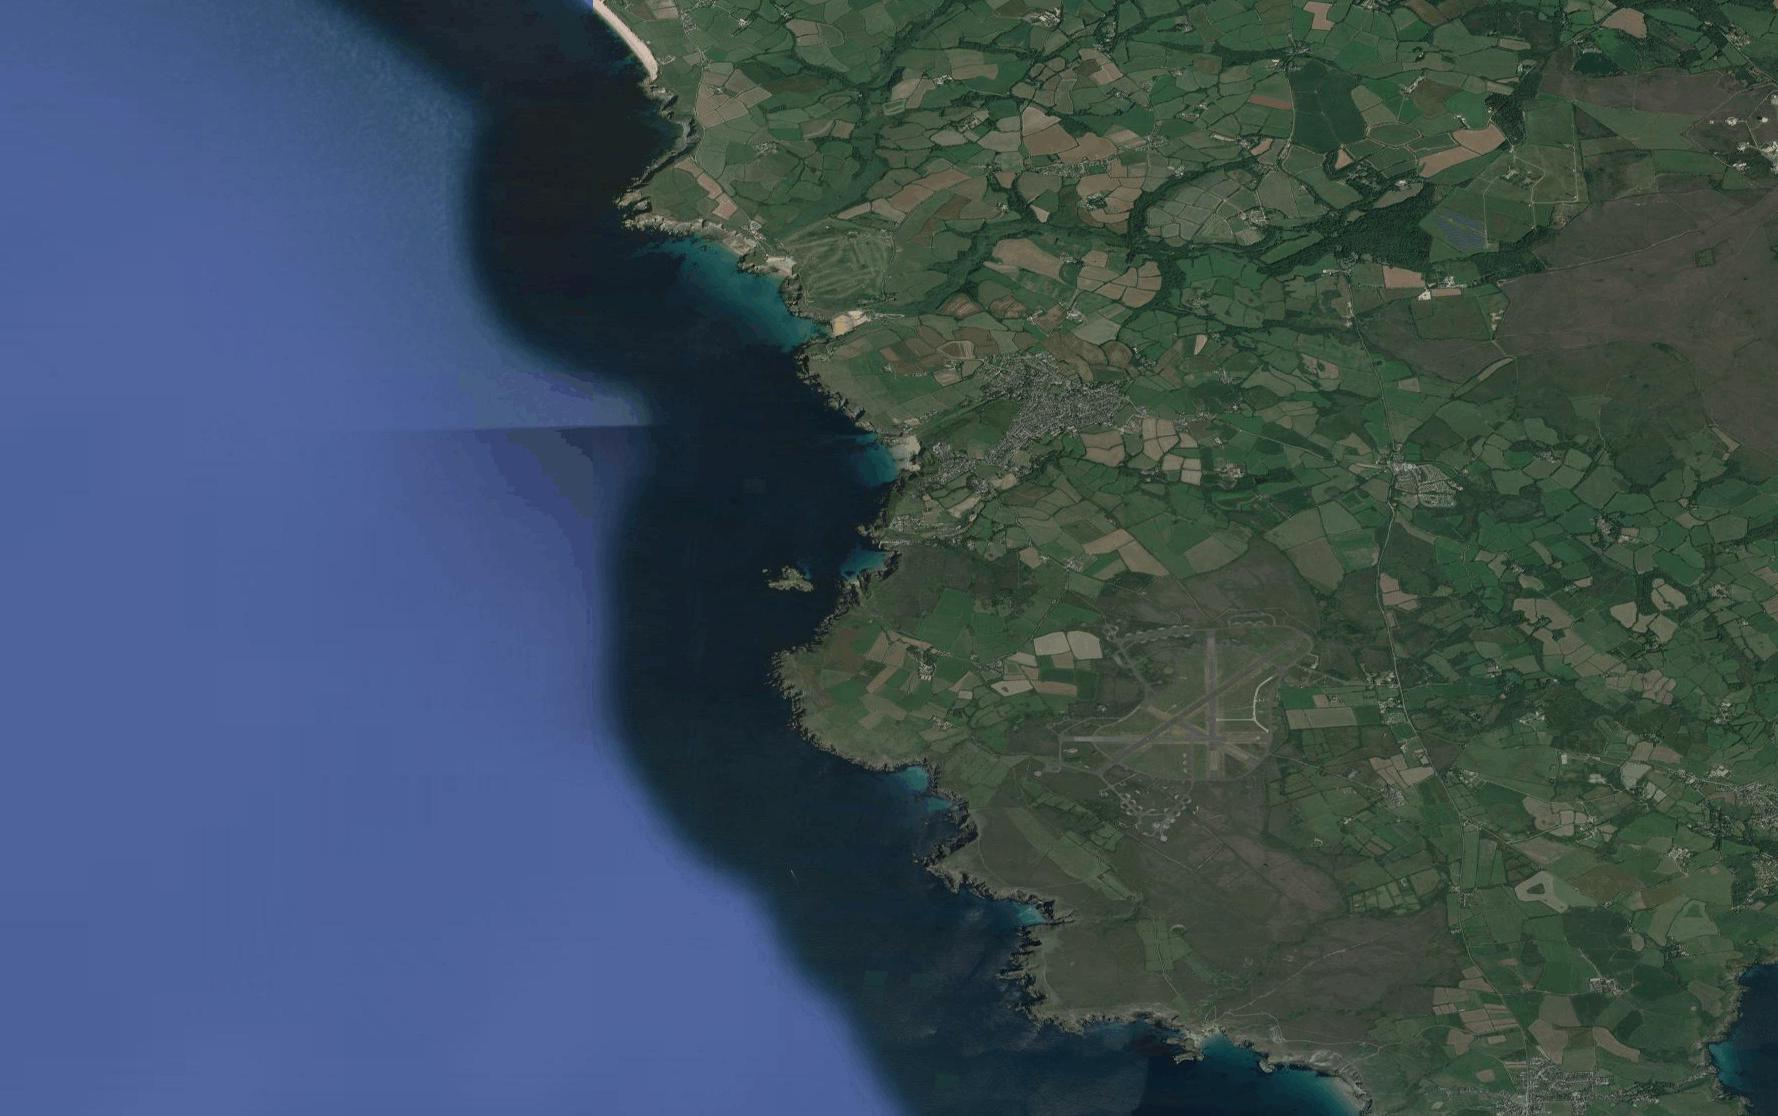harbor: (864, 535, 887, 557)
